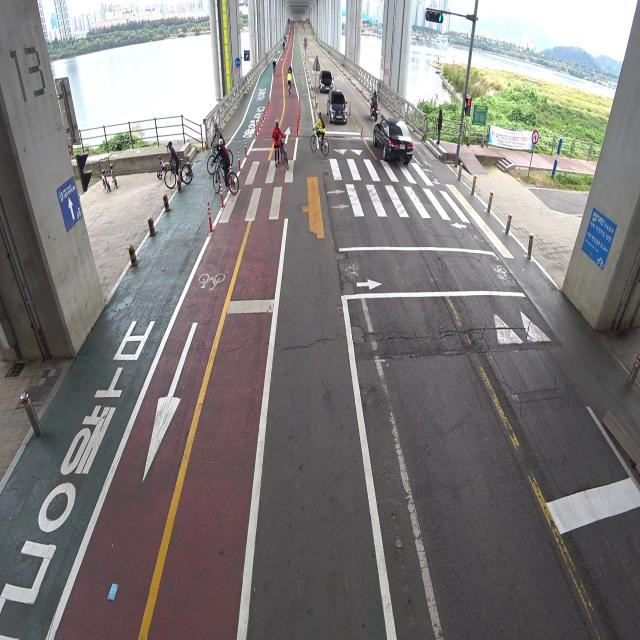Car: (372, 112, 418, 165), (326, 90, 352, 126), (318, 67, 334, 94)
Motorcycle: (368, 88, 380, 120)
